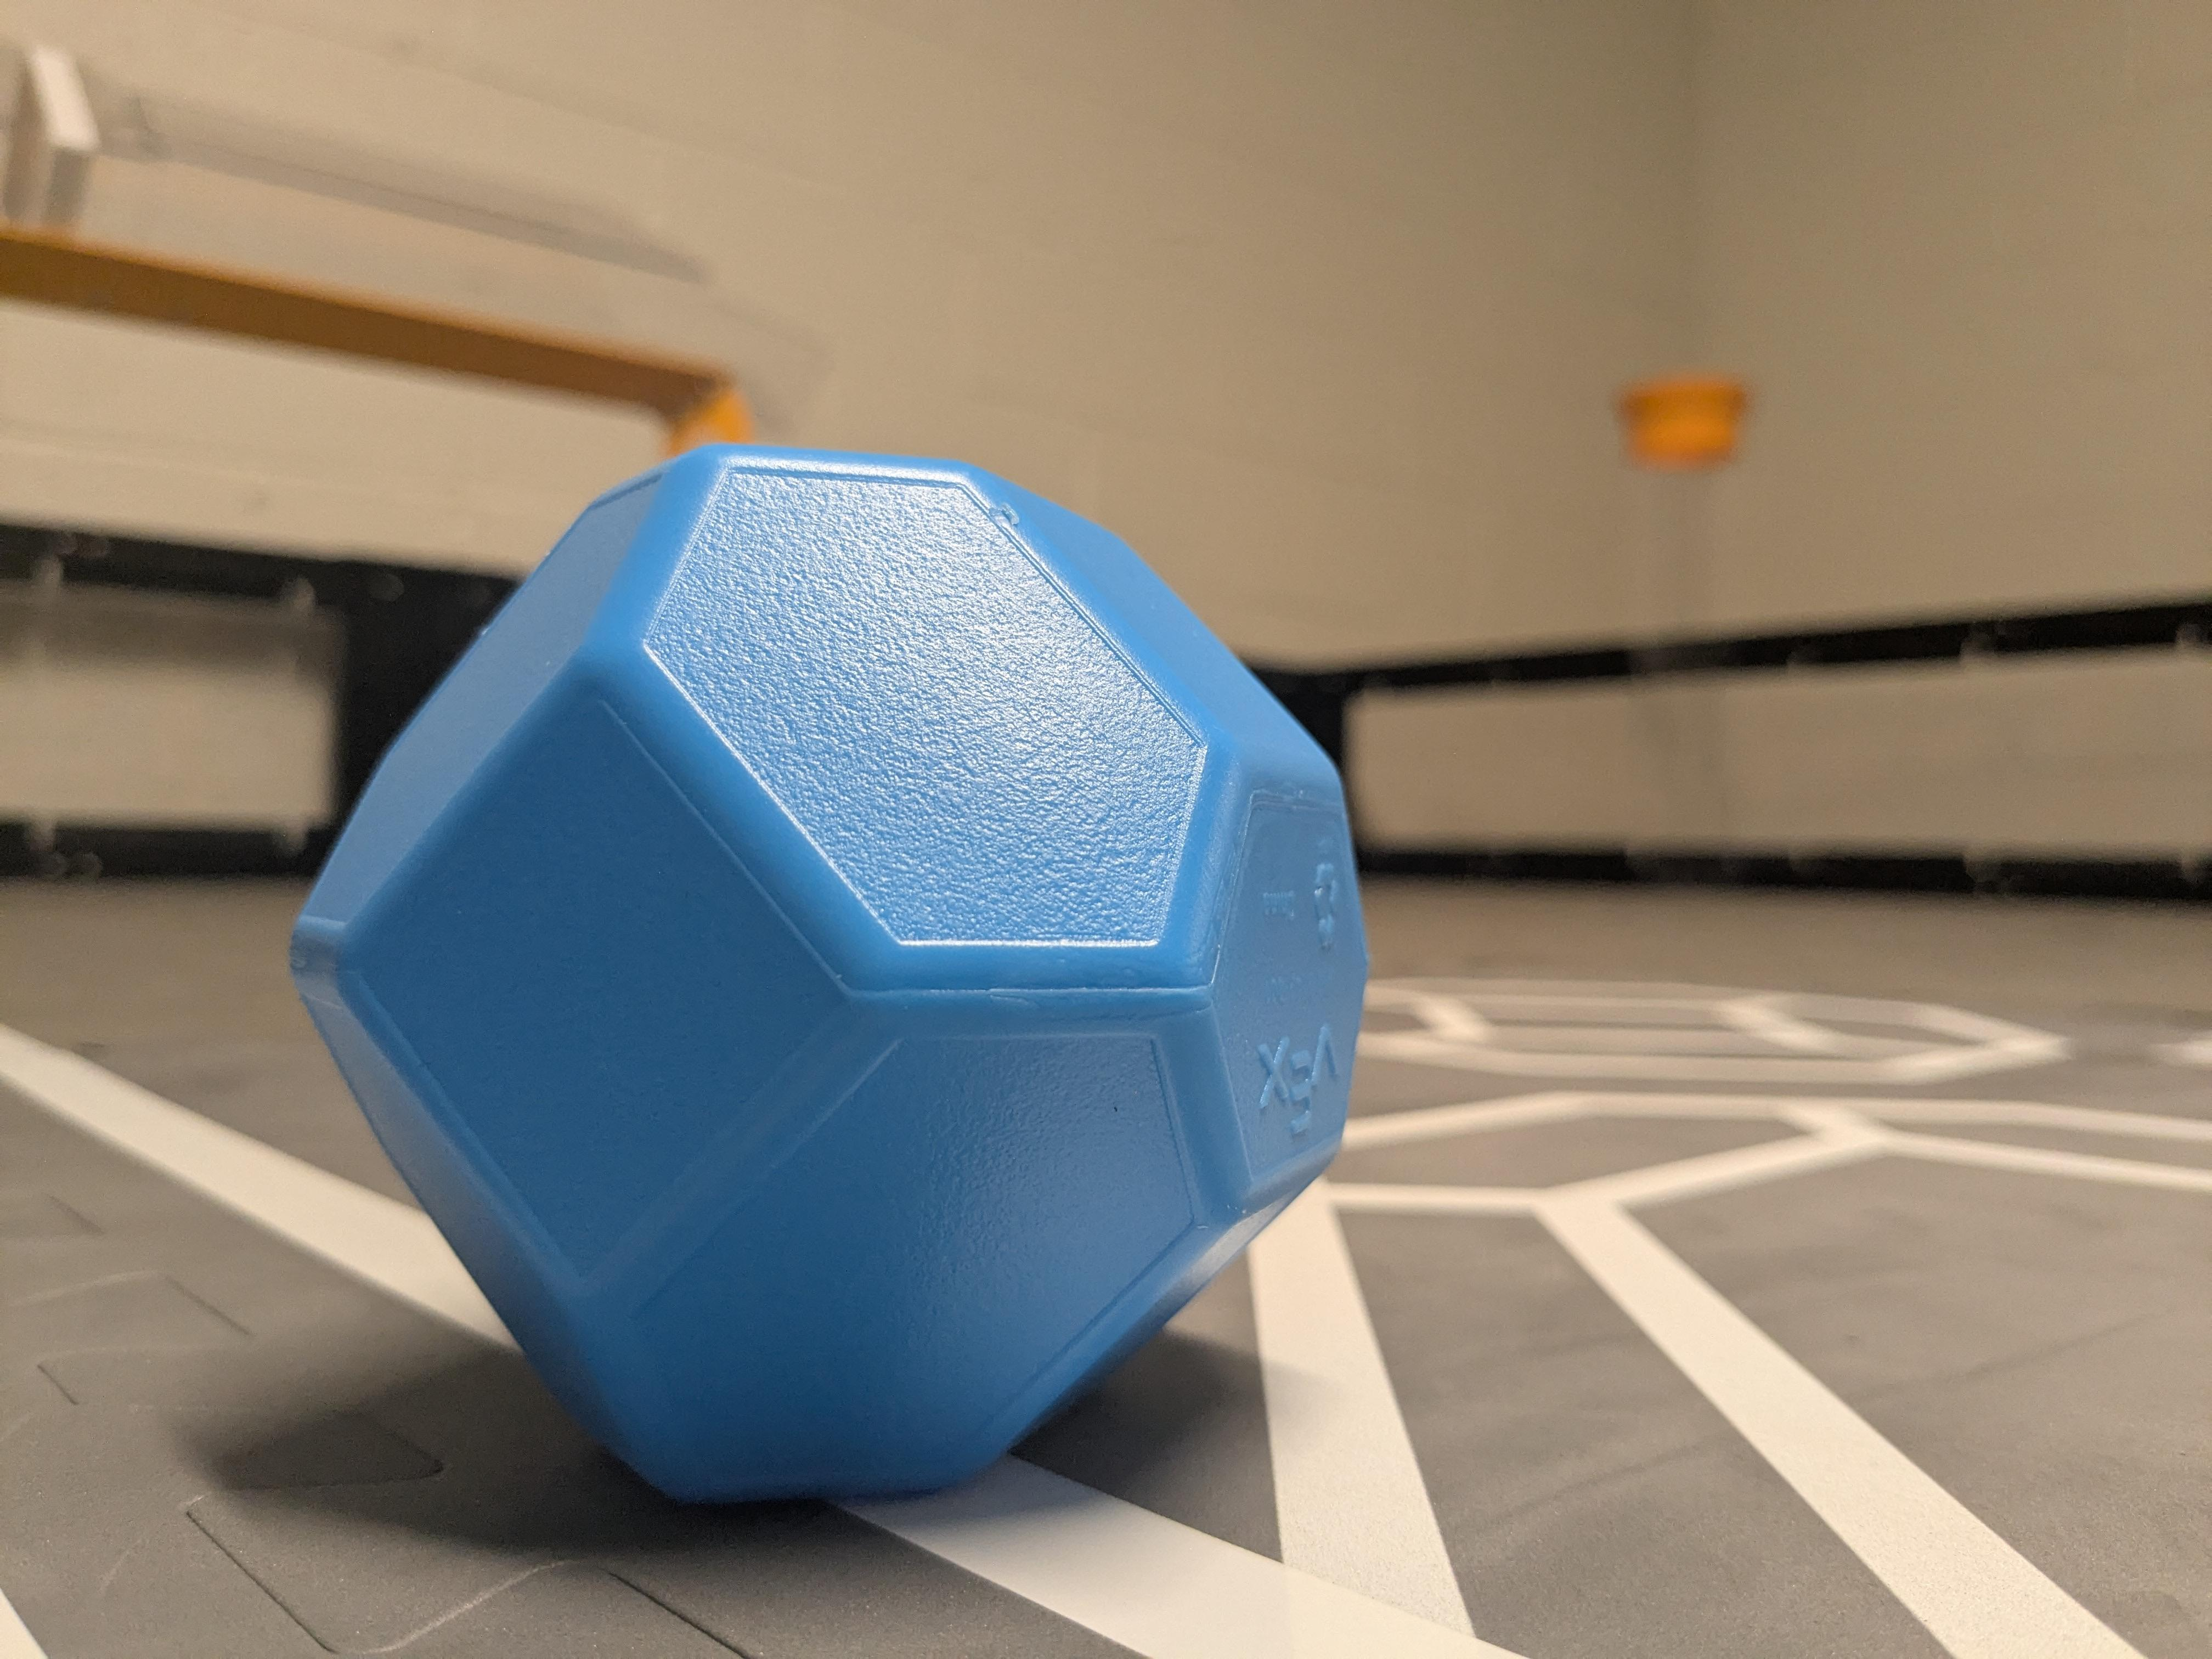Vex-Pieces-BLUE: (291, 446, 1367, 1500)
